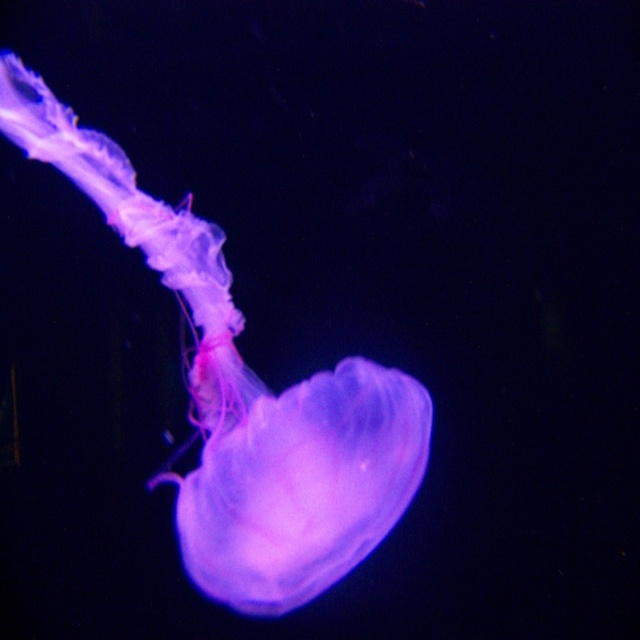Jellyfish: (0, 45, 434, 628)
